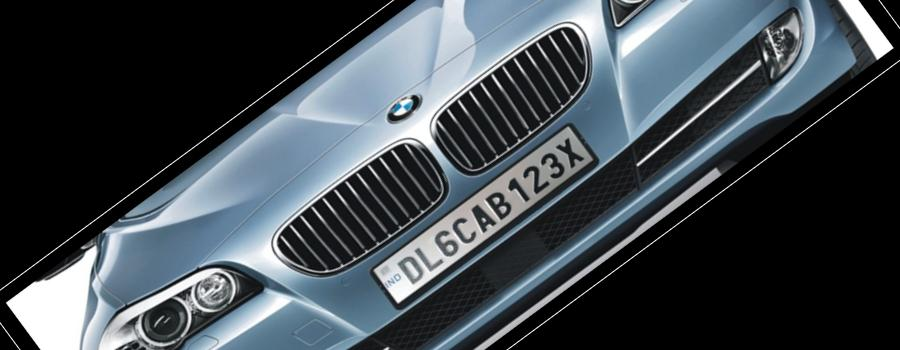plate: (352, 102, 623, 329)
